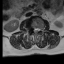CCS_normal: (35, 25, 36, 35)
LFS_normal: (39, 25, 41, 32)
LLS_normal: (36, 25, 39, 33)
RFS_severe_stenosis: (31, 25, 33, 33)
RLS_normal: (33, 26, 35, 34)
